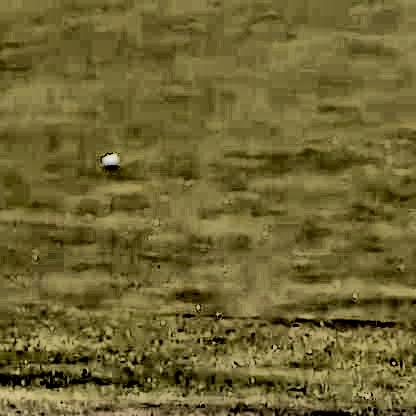golfball: (98, 150, 115, 168)
